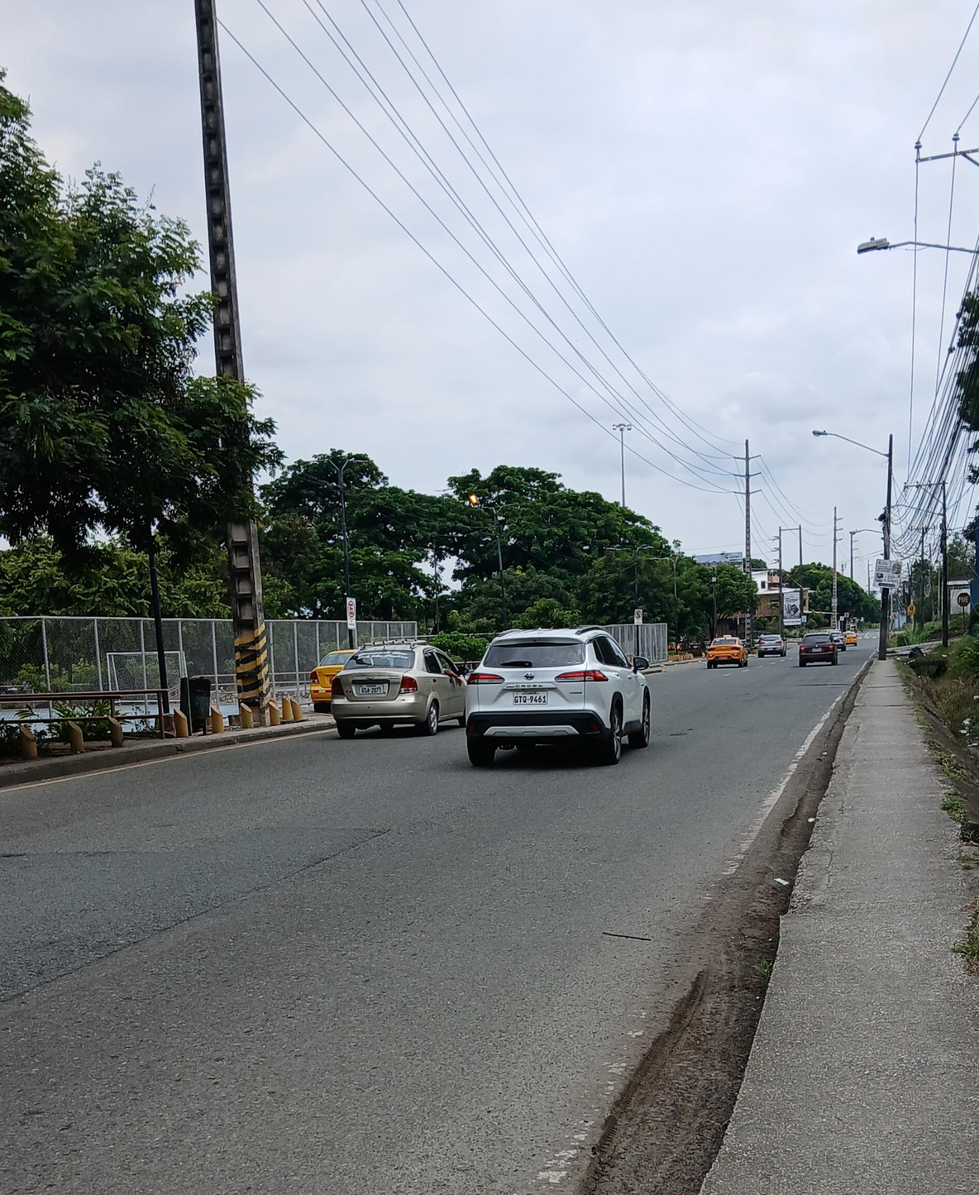license_plate: (512, 692, 549, 704), (358, 683, 388, 694), (814, 646, 826, 652)
